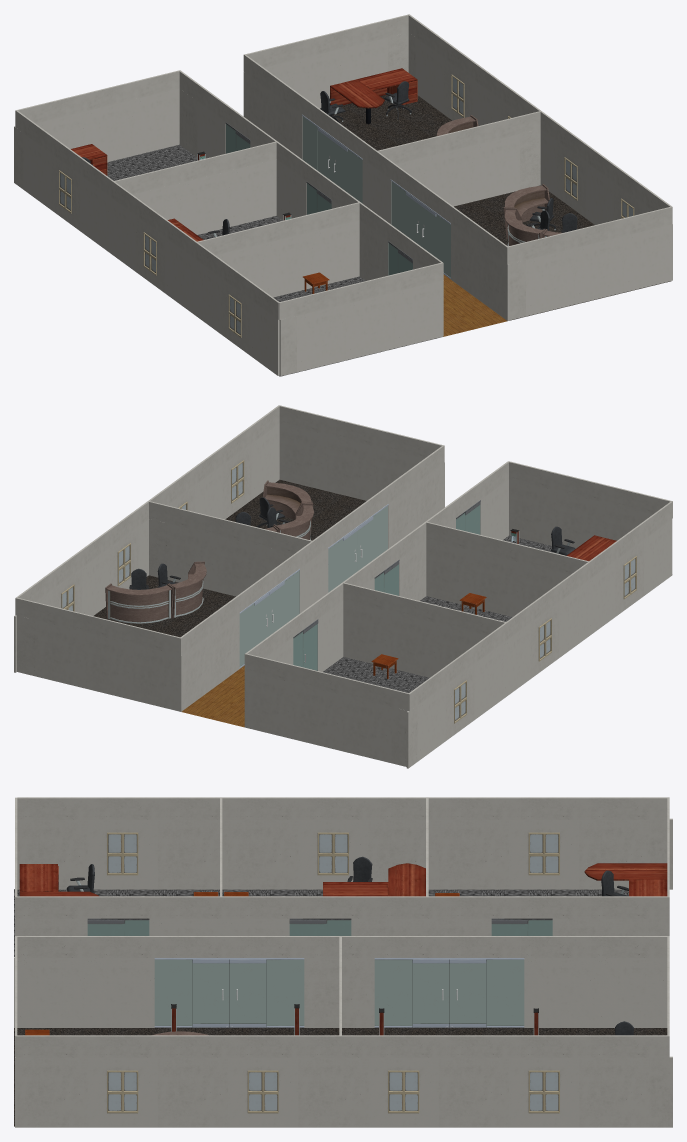
Rendered from office_hallway.glb.
The picture shows the model from 3 angles, top to bottom: view 1: azimuth 30°, elevation 25°; view 2: azimuth 150°, elevation 25°; view 3: azimuth 270°, elevation 25°; orthographic projection. The views are drawn at different scales.
Visible parts, largest first — view 1: Object_21, Object_11, Object_9, Object_22, Object_8, Object_3, Object_7, Object_12, Object_4, Object_5, Object_13, Object_6; view 2: Object_21, Object_11, Object_22, Object_5, Object_9, Object_7, Object_12, Object_8, Object_4, Object_6, Object_10, Object_14 (+3 smaller); view 3: Object_21, Object_11, Object_22, Object_3, Object_8, Object_12, Object_9, Object_7, Object_15, Object_2, Object_20.
Part boxes in pixels (x1,y1,x2,y2): Object_21: (14, 14, 672, 376); Object_11: (302, 114, 450, 279); Object_9: (115, 110, 638, 360); Object_22: (51, 14, 408, 284); Object_8: (148, 94, 671, 348); Object_3: (71, 68, 417, 241); Object_7: (107, 171, 507, 368); Object_12: (225, 122, 412, 275); Object_4: (436, 116, 561, 236); Object_5: (449, 115, 549, 246); Object_13: (91, 88, 578, 239); Object_6: (107, 160, 312, 376); Object_21: (14, 405, 672, 768); Object_11: (239, 504, 388, 668); Object_22: (17, 548, 551, 740); Object_5: (105, 480, 313, 623); Object_9: (126, 487, 512, 678); Object_7: (182, 596, 457, 727); Object_12: (293, 500, 480, 670); Object_8: (93, 479, 551, 623); Object_4: (106, 482, 313, 595); Object_6: (323, 657, 429, 692); Object_10: (355, 551, 558, 687); Object_14: (131, 497, 270, 589); Object_21: (14, 797, 672, 1127); Object_11: (154, 958, 524, 1027); Object_22: (304, 819, 669, 1035); Object_3: (19, 863, 667, 896); Object_8: (14, 889, 667, 1126); Object_12: (87, 918, 552, 935); Object_9: (14, 928, 615, 1106); Object_7: (14, 889, 628, 928); Object_15: (87, 856, 633, 1035); Object_2: (171, 1004, 538, 1035); Object_20: (25, 892, 459, 1035).
Size of the model in its own units: 97 by 17.21 by 113.
Materials: 9 (9 with a texture image).
